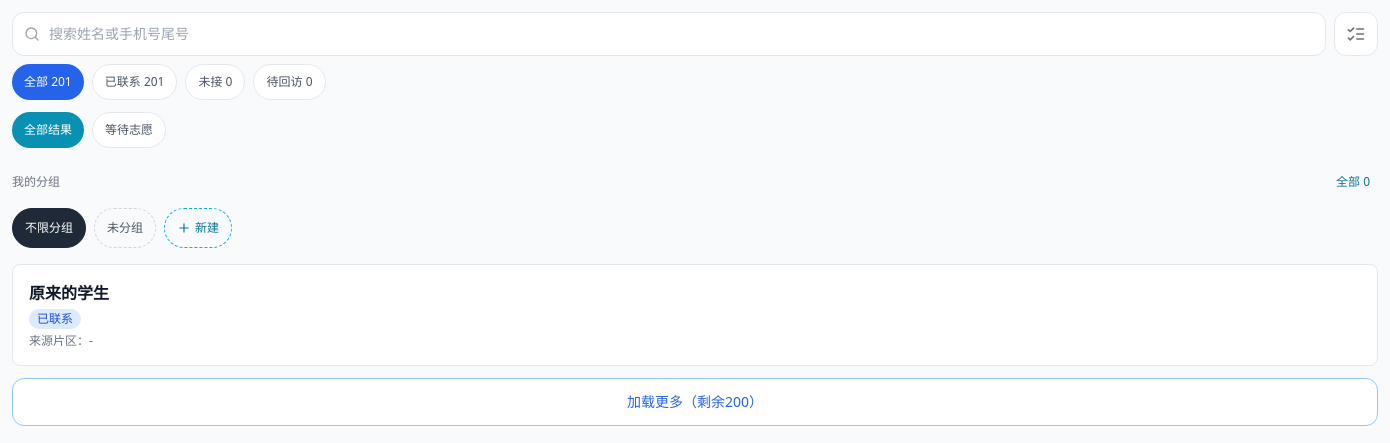
Test: MobileHome PendingList › resets pagination when a filter refresh supersedes a pending page request
Expected: the text "原来的学生" is shown, left=29, top=282, right=109, bottom=304
Click the button "加载更多（剩余200）" at (695, 402), box left=12, top=378, right=1378, bottom=426
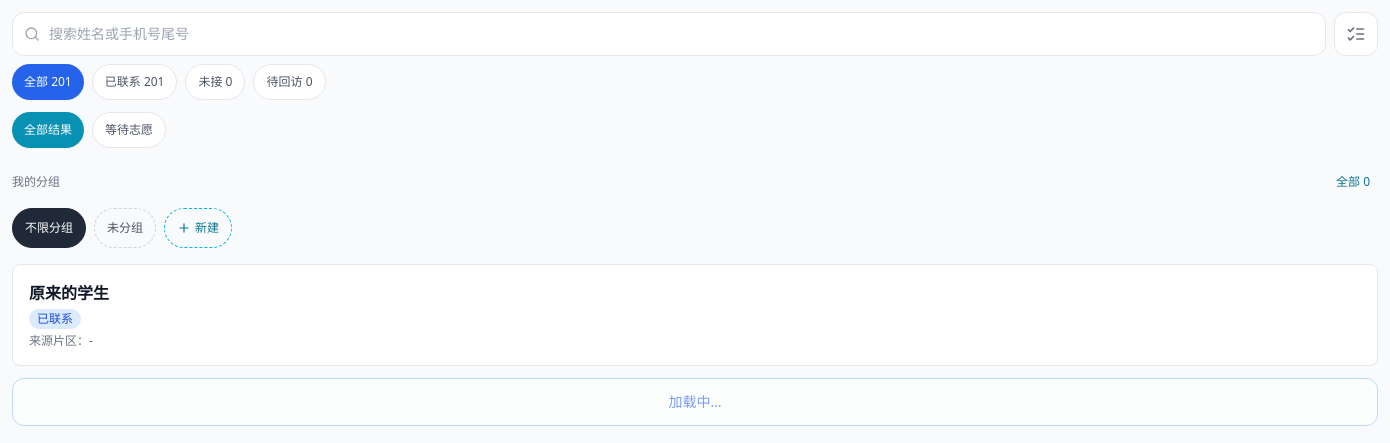
Type "筛选" into the field with placeholder "搜索姓名或手机号尾号" at (669, 34), box left=12, top=12, right=1326, bottom=56
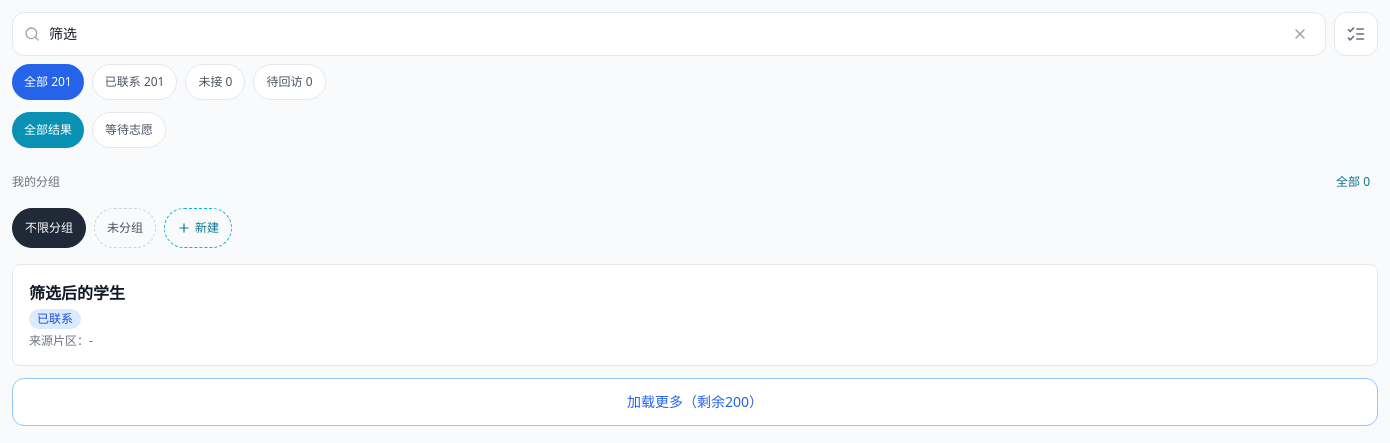
Result: the text "筛选后的学生" is shown at left=29, top=282, right=125, bottom=304
Result: the button "加载更多（剩余200）" is enabled at left=12, top=378, right=1378, bottom=426
